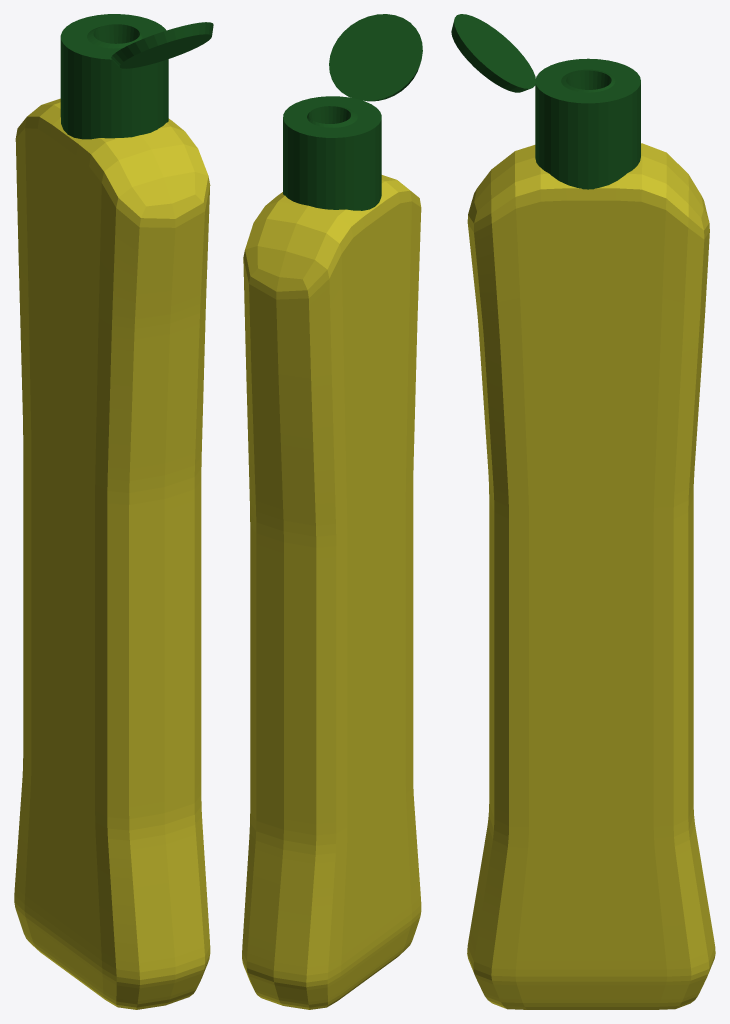
The model's file is detergent.fbx.
3 renders of one model, left to right at view 1: azimuth 30°, elevation 25°; view 2: azimuth 150°, elevation 25°; view 3: azimuth 270°, elevation 25°, orthographic. The views are drawn at different scales.
Parts seen in each view (by area): view 1: detergent; view 2: detergent; view 3: detergent.
Part boxes in pixels (left/top/right/bottom): detergent: left=14, top=14, right=213, bottom=1009; detergent: left=242, top=14, right=422, bottom=1009; detergent: left=451, top=14, right=715, bottom=1009.
Bounding box in the file's own units: 4.33 × 42.03 × 10.32.
